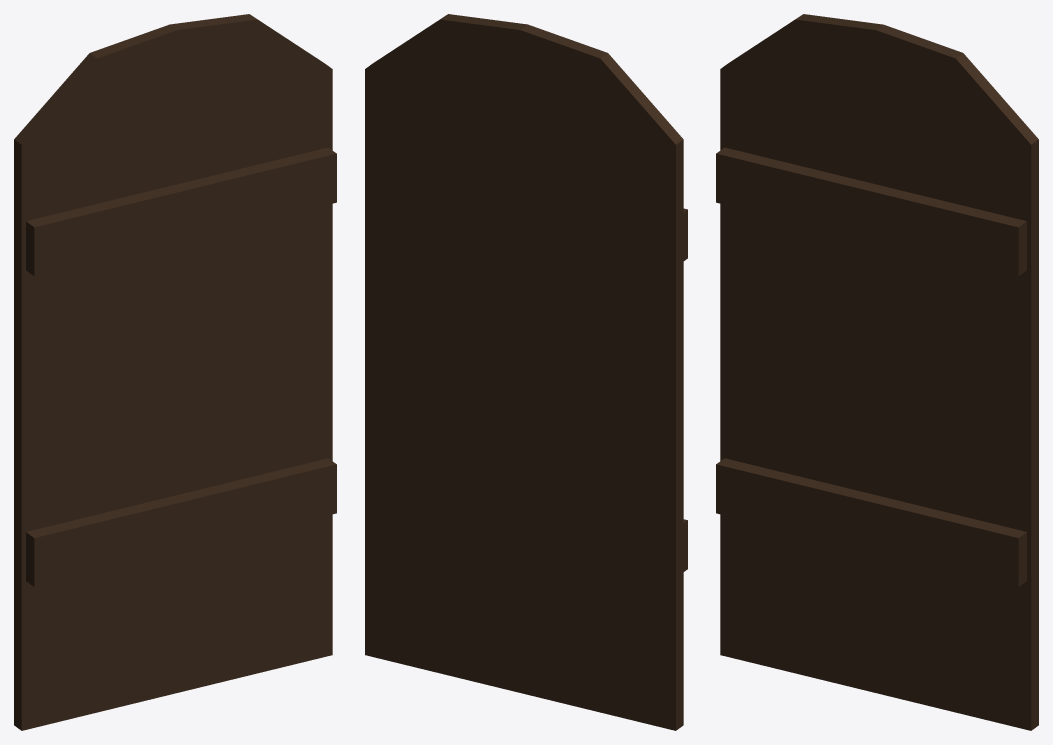
File: windmill_2_door_mat.fbx
The picture shows the model from 3 angles, left to right: view 1: azimuth 30°, elevation 25°; view 2: azimuth 150°, elevation 25°; view 3: azimuth 330°, elevation 25°; orthographic projection.
Visible parts, largest first — view 1: windmill_2_door_mat; view 2: windmill_2_door_mat; view 3: windmill_2_door_mat.
Part boxes in pixels (x1,y1,x2,y2): windmill_2_door_mat: [14, 14, 336, 730]; windmill_2_door_mat: [365, 14, 687, 730]; windmill_2_door_mat: [716, 14, 1038, 730].
Bounding box in the file's own units: 60.47 × 123 × 5.42.
